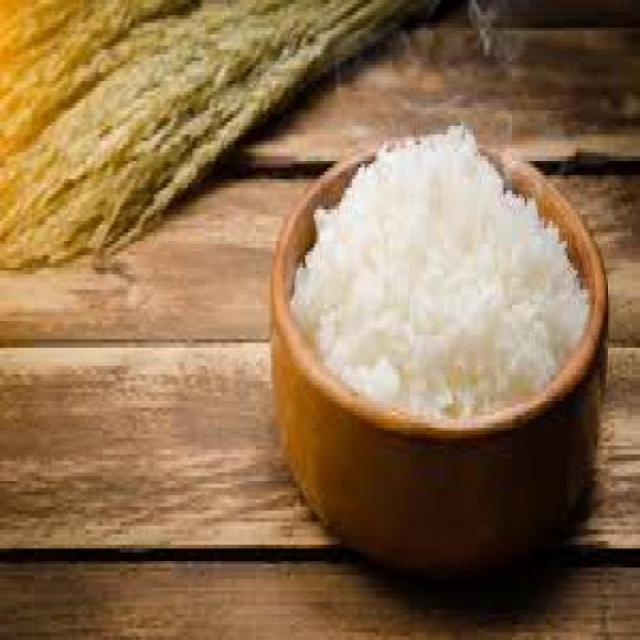nasi_putih: (292, 126, 590, 426)
